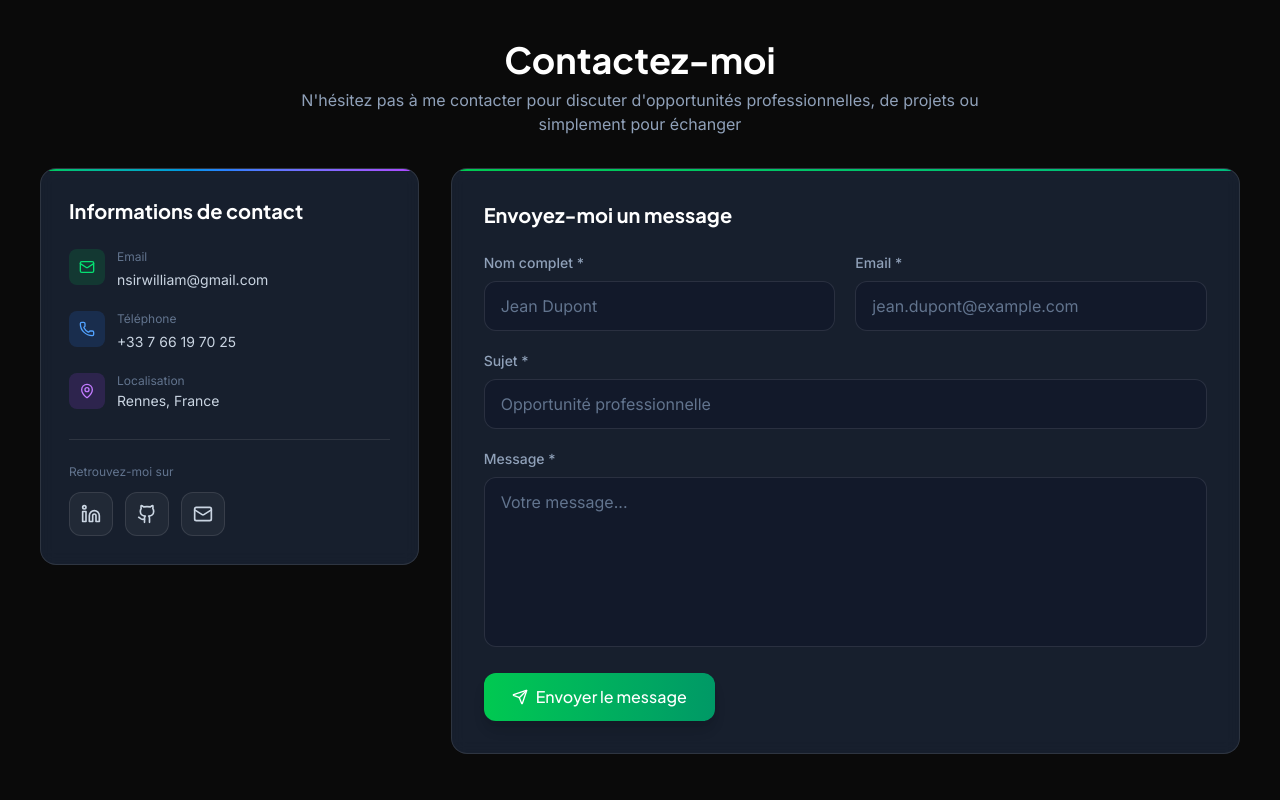
Test: Contact – Formulaire EmailJS › désactive le bouton et affiche le spinner pendant l'envoi
In the field labelled "Nom complet *": (660, 306) [484,281,835,331], type "Jean"
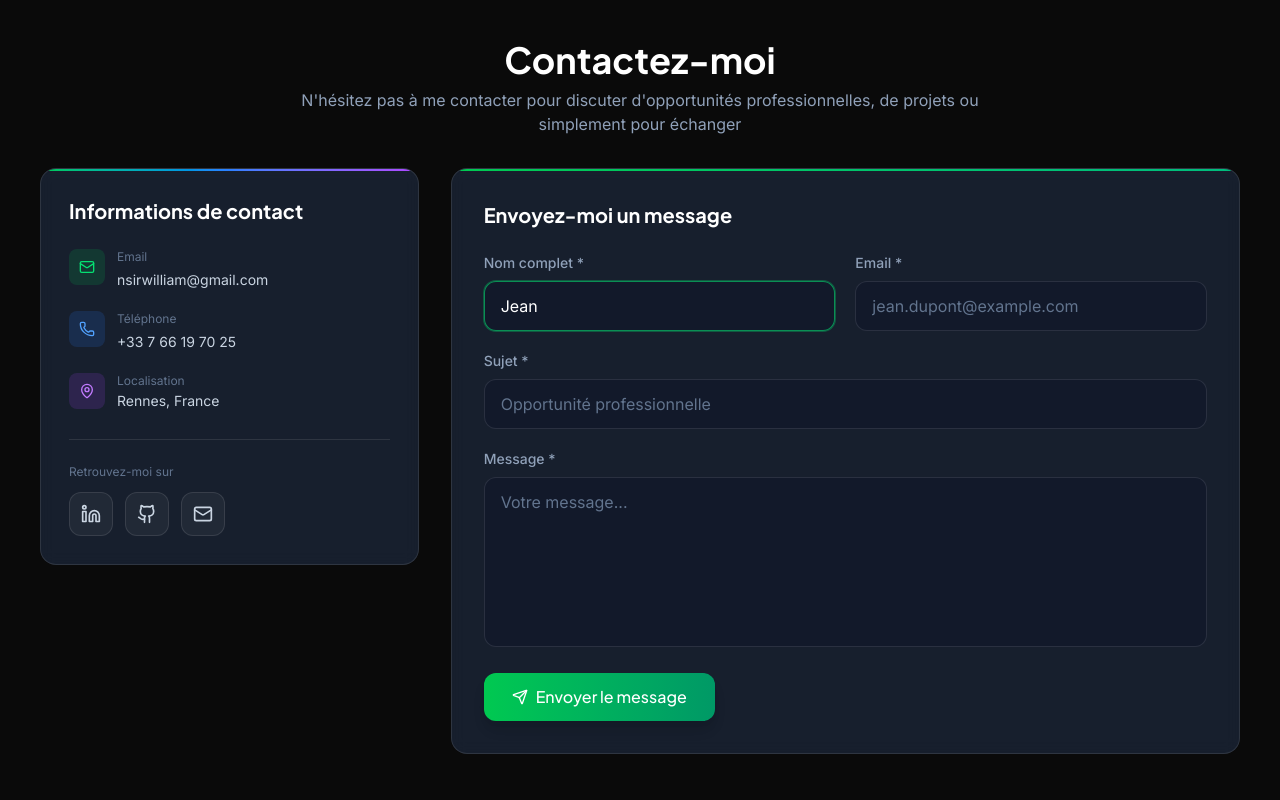
In the field labelled "Email *": (1031, 306) [855,281,1207,331], type "j@e.com"
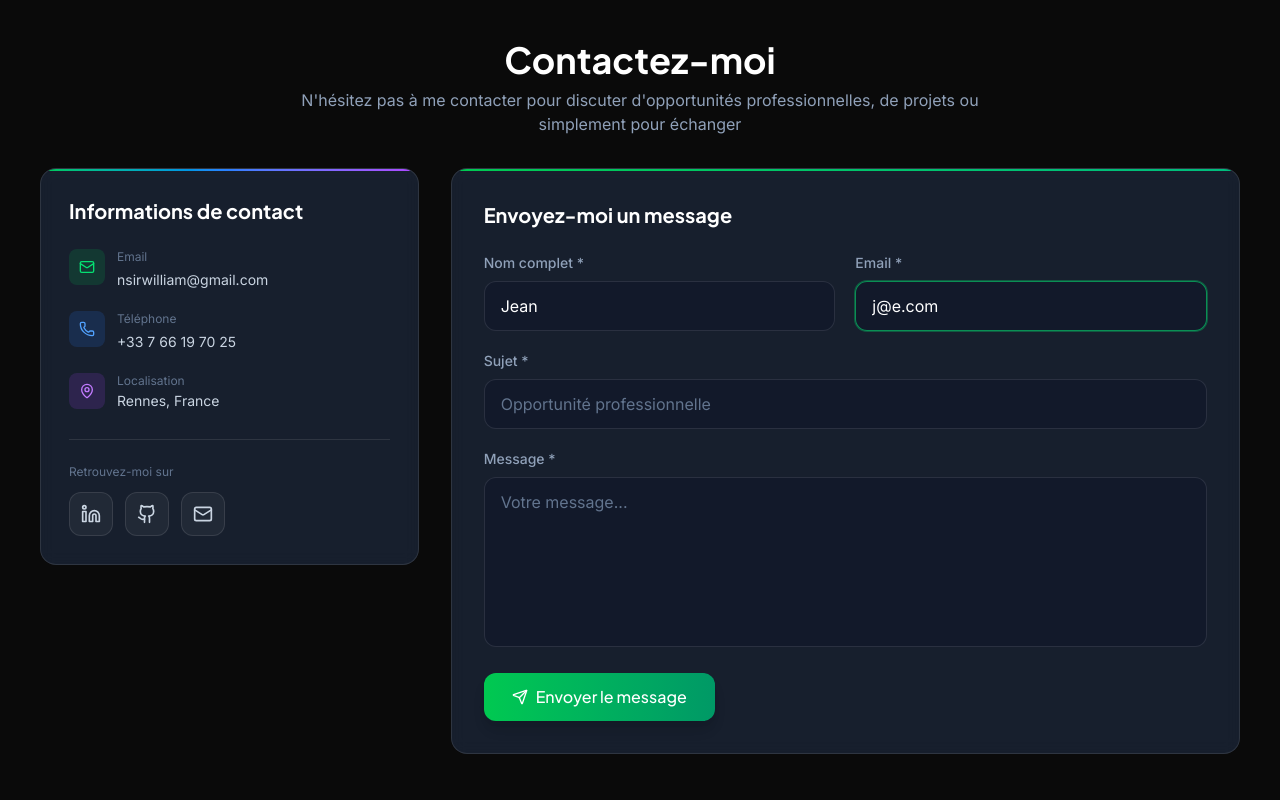
In the field labelled "Sujet *": (845, 404) [484,379,1207,429], type "Test"
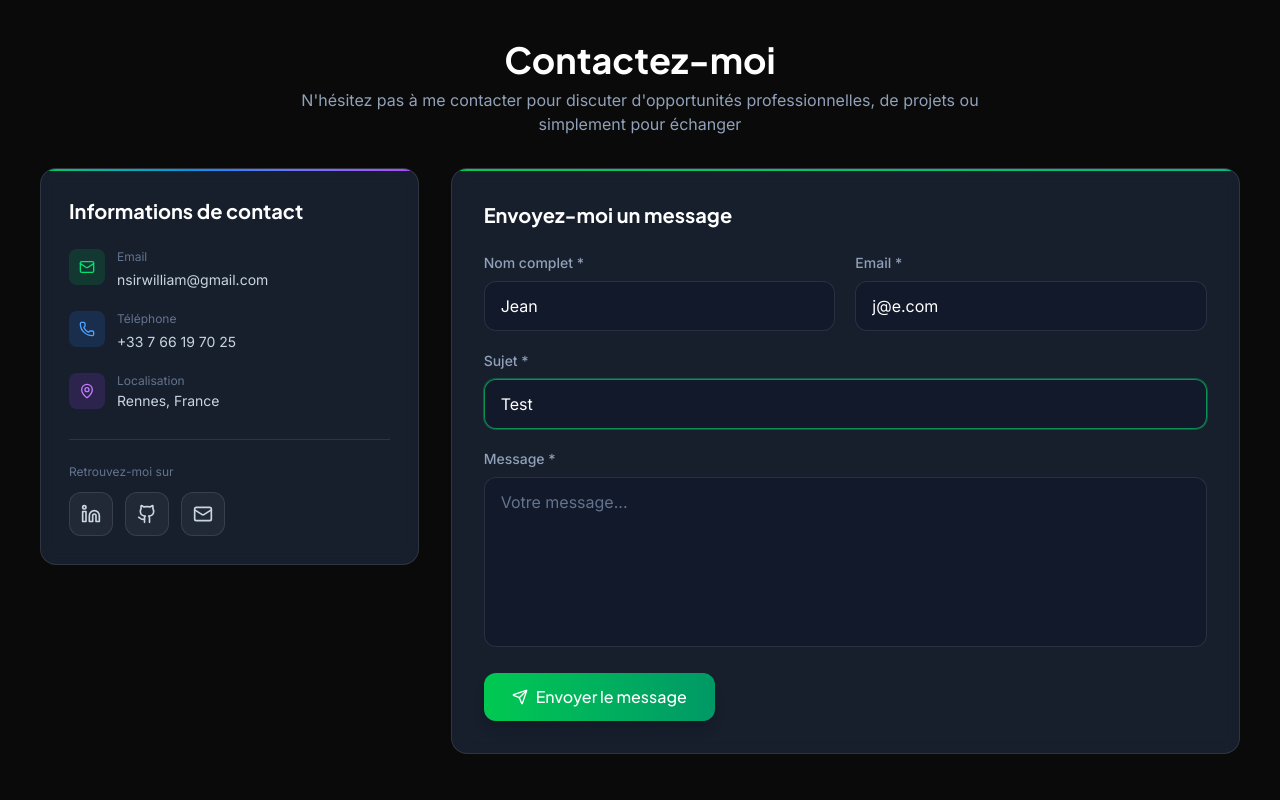
In the text box labelled "Message *": (845, 562) [484,477,1207,647], type "Msg"
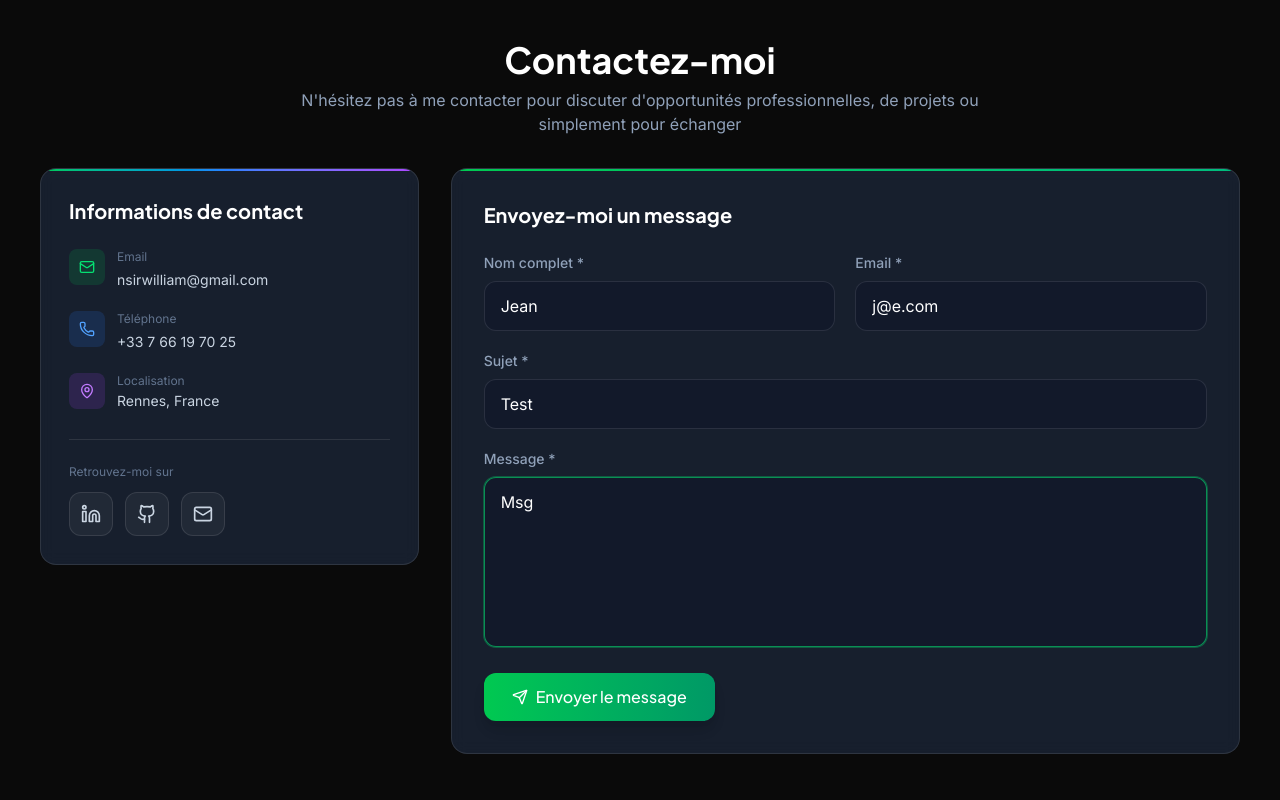
Click the button "Envoyer le message": (599, 697) [484,673,715,721]
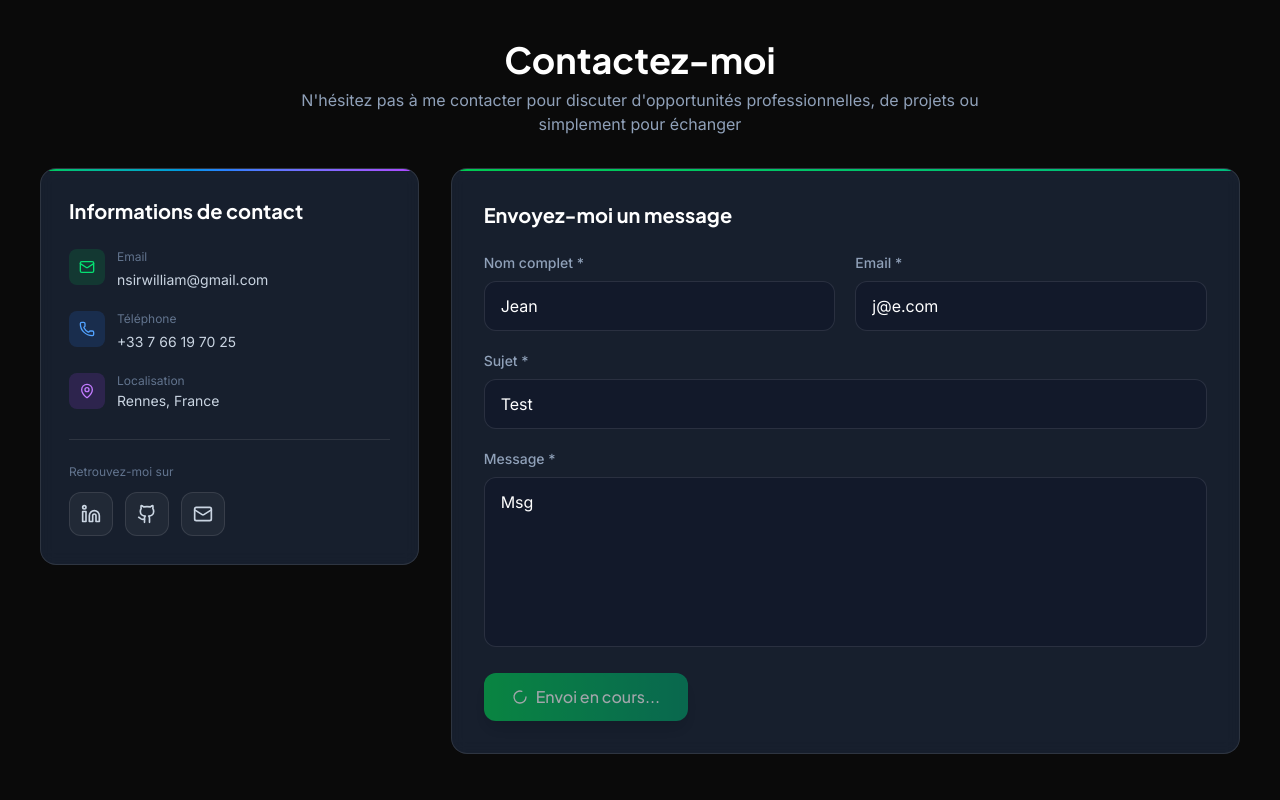
Result: the button "Envoi en cours..." is disabled at [484,673,688,721]
